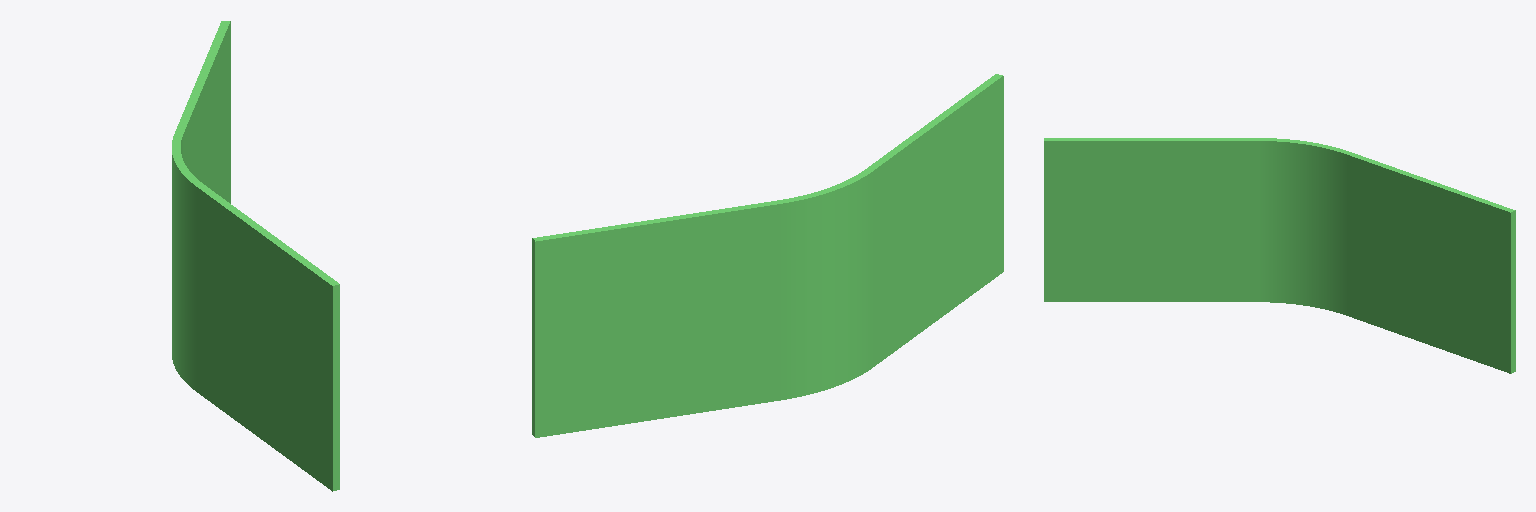
The robot description file, URDF, robot "surface_chain":
<?xml version="1.0"?>
<robot name="surface_chain">
  <link name="surface_chain">
    <visual>
      <origin xyz="0 0 0" rpy="0 0 0"/>
      <geometry>
        <mesh filename="package://mujoco_bridge/data/assets/structure/surface_chain.stl"
              scale="1 1 1"/>
      </geometry>
      <material name="surface_chain_green">
        <color rgba="0.5 0.9 0.5 0.6"/>
      </material>
    </visual>
  </link>
</robot>

--- Render facts (derived) ---
The picture shows the robot from 3 angles, left to right: view 1: azimuth 30°, elevation 25°; view 2: azimuth 150°, elevation 25°; view 3: azimuth 270°, elevation 25°; orthographic projection.
Robot: surface_chain — 1 links, 0 joints (none); root link surface_chain; default pose: every joint at zero.
Links seen in each view (by area): view 1: surface_chain; view 2: surface_chain; view 3: surface_chain.
Boxes of the visible links, x1,y1,x2,y2 form: surface_chain: (172,21,339,491); surface_chain: (532,74,1003,437); surface_chain: (1044,138,1515,373).
Size in the robot's own frame: 0.4969 by 1.32 by 0.5 metres.
1 mesh visuals loaded from 1 distinct referenced files (1 binary STL).
